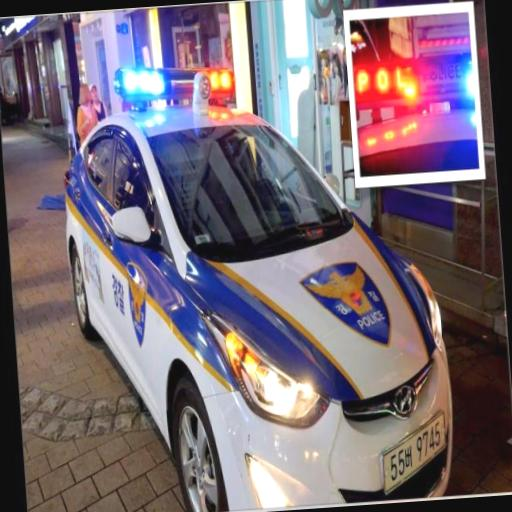Ambulance: (55, 51, 459, 512)
